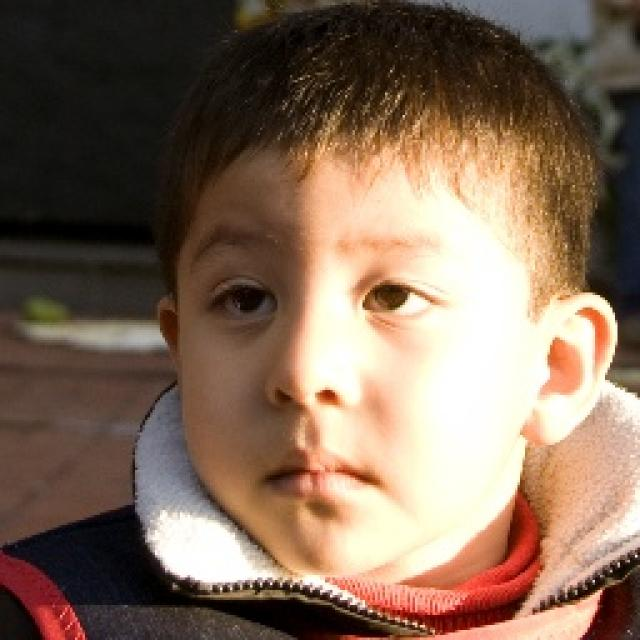earlobe: (522, 410, 586, 452)
eye: (359, 280, 443, 325), (205, 282, 279, 323)
nose: (269, 396, 355, 441)
wholeear: (522, 292, 618, 449), (156, 299, 183, 378)
